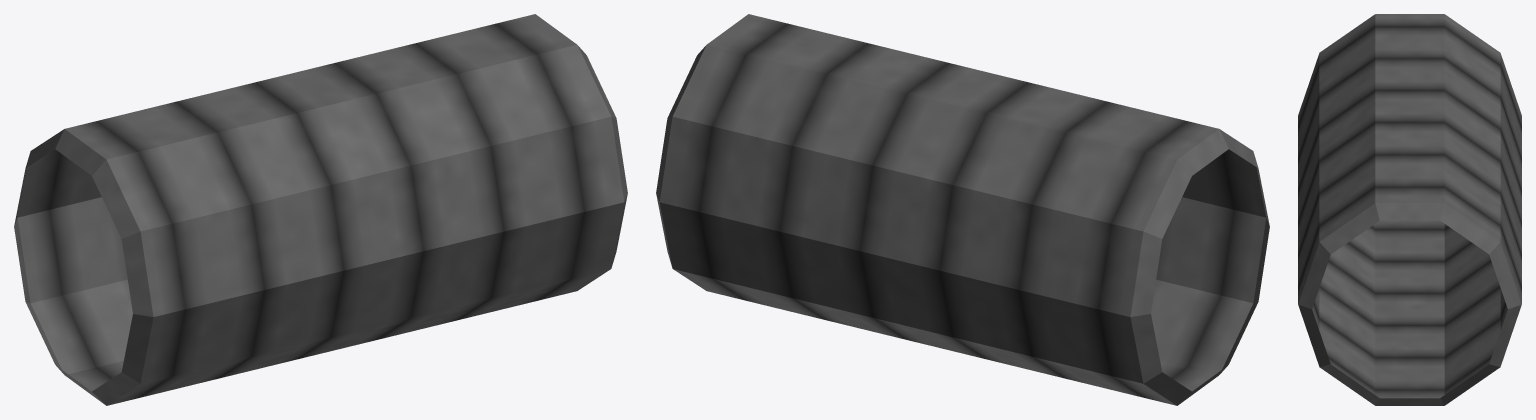
Rendered from pipe.fbx.
The picture shows the model from 3 angles, left to right: view 1: azimuth 30°, elevation 25°; view 2: azimuth 150°, elevation 25°; view 3: azimuth 270°, elevation 25°; orthographic projection. The views are drawn at different scales.
Visible parts, largest first — view 1: pipes; view 2: pipes; view 3: pipes.
Part boxes in pixels (x1,y1,x2,y2): pipes: [14, 14, 627, 405]; pipes: [656, 14, 1269, 405]; pipes: [1298, 14, 1521, 405].
Bounding box in the file's own units: 210 × 100 × 100.
